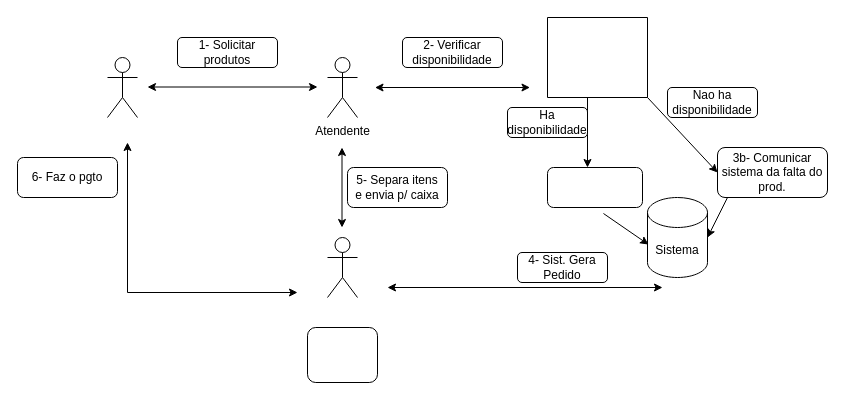
This 845x401 diagram has some shape labels left out. The box of each missing label's shape, as (x1, y1, x2, y2) in pixels:
3a- Incluir itens no pedido e lancar sistema: (546, 166, 642, 208)
7- Registra pgto no sist. e entrega prod.: (306, 326, 378, 382)
Caixa: (326, 236, 358, 298)
Cliente: (106, 56, 138, 118)
Estoque/Estante: (546, 16, 648, 98)
